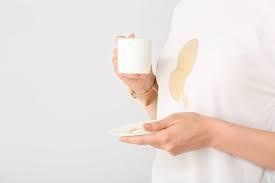coffee: (170, 43, 195, 100)
